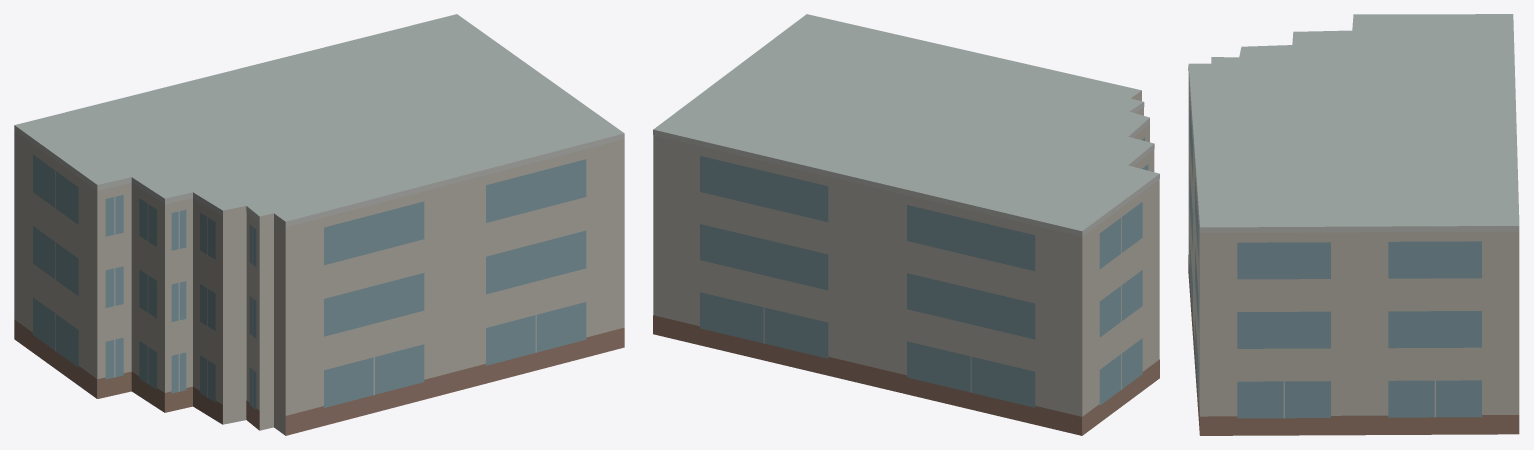
The model's file is survey-upis-32752360.glb.
3 views of the same model, side by side, from view 1: azimuth 30°, elevation 25°; view 2: azimuth 150°, elevation 25°; view 3: azimuth 270°, elevation 25° (orthographic). The views are drawn at different scales.
Visible parts, largest first — view 1: survey-upis-32752360.tmp; view 2: survey-upis-32752360.tmp; view 3: survey-upis-32752360.tmp.
Boxes of the visible parts, x1,y1,x2,y2 form: survey-upis-32752360.tmp: (14,14,624,435); survey-upis-32752360.tmp: (653,14,1159,435); survey-upis-32752360.tmp: (1188,14,1519,435).
Size of the model in its own units: 20.1 by 9.15 by 13.18.
